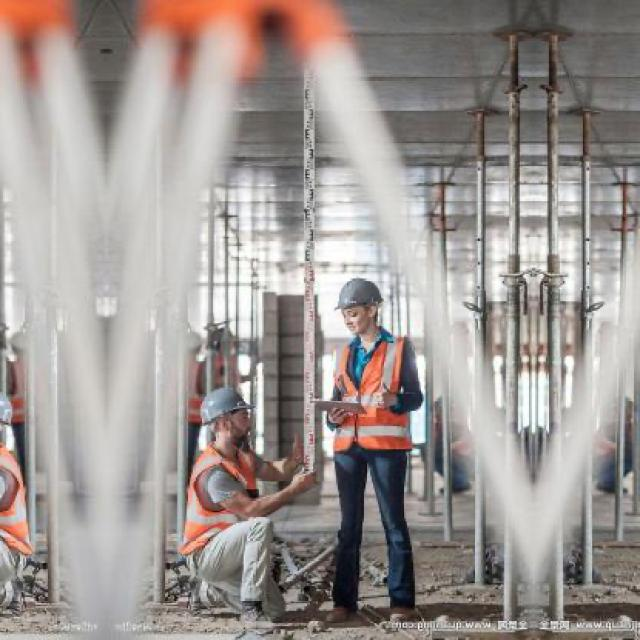con casco: (300, 258, 437, 359), (150, 370, 286, 457)
